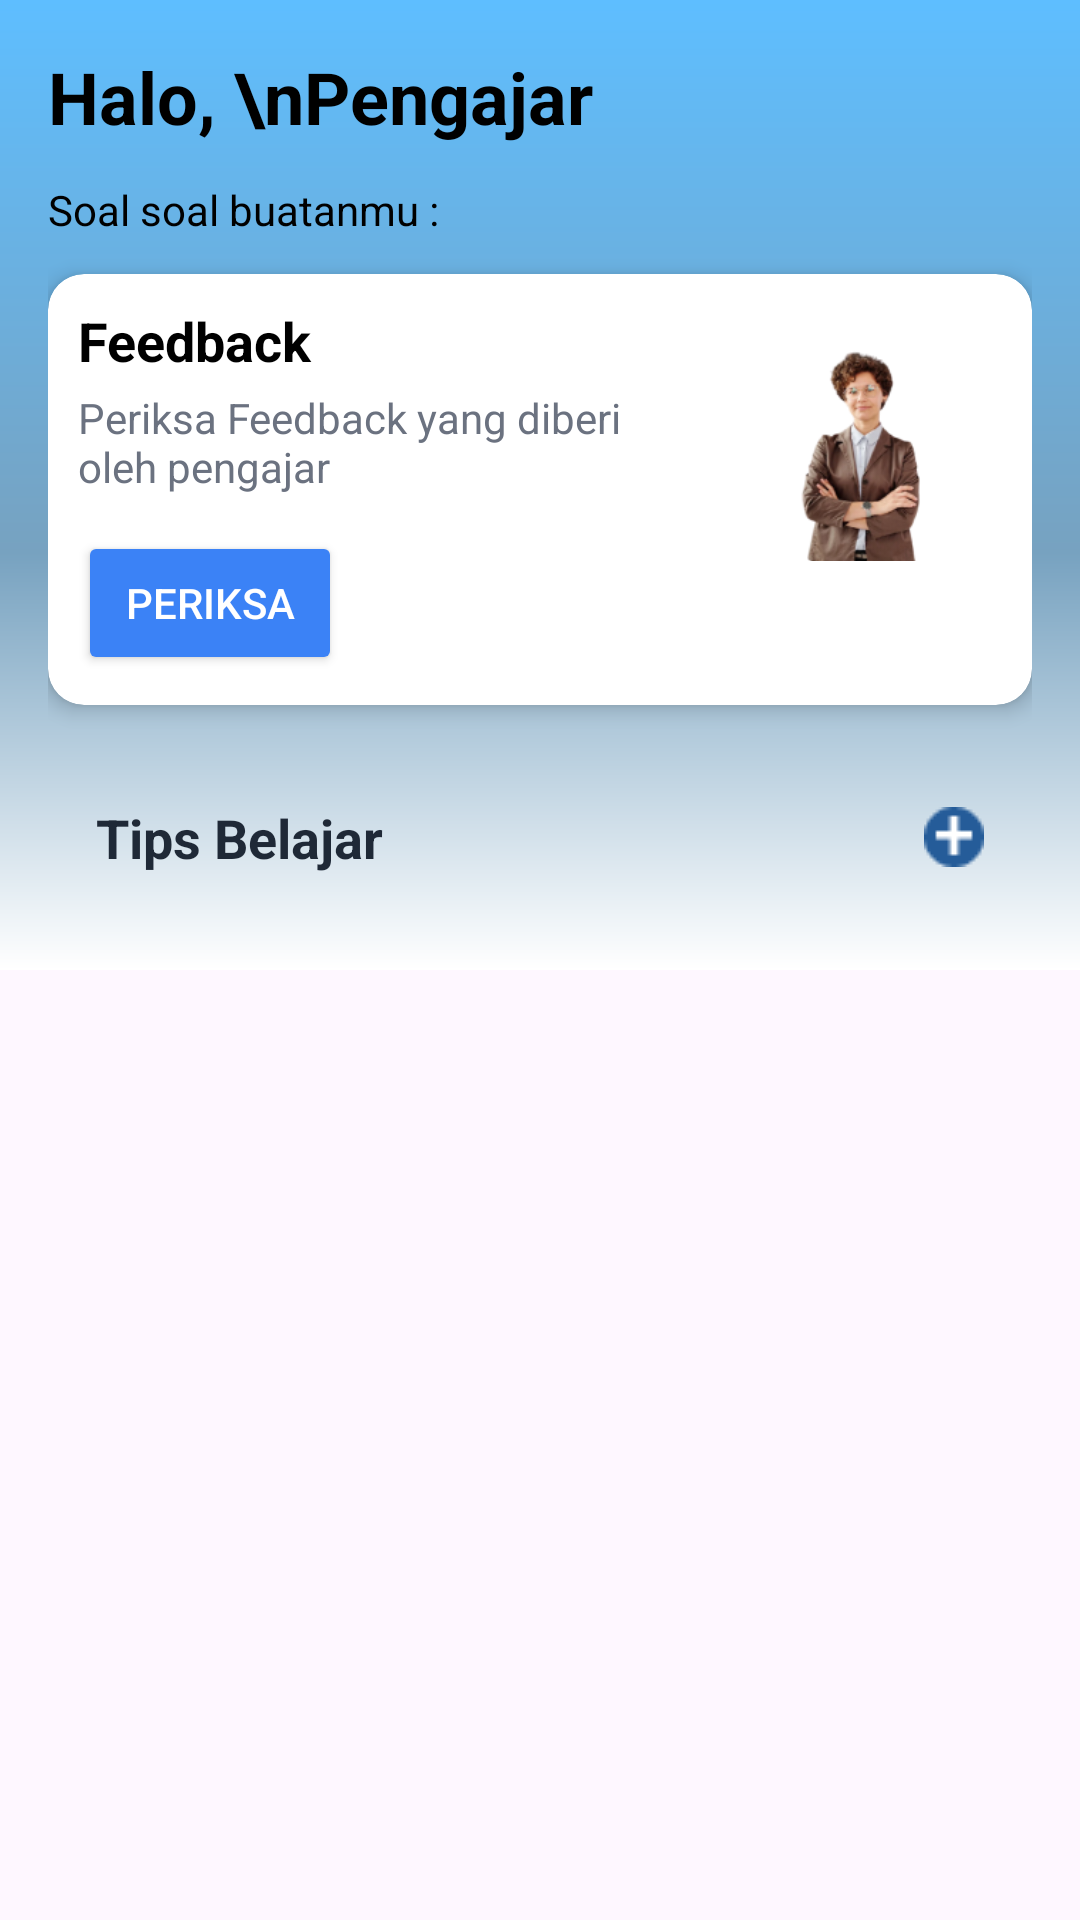

Icons on this 1080×1920 Android screen, each with its box as rect(x1, y1, x2, y2):
Tambah Kuis: rect(924, 807, 984, 867)
Teacher Image: rect(802, 352, 920, 561)
